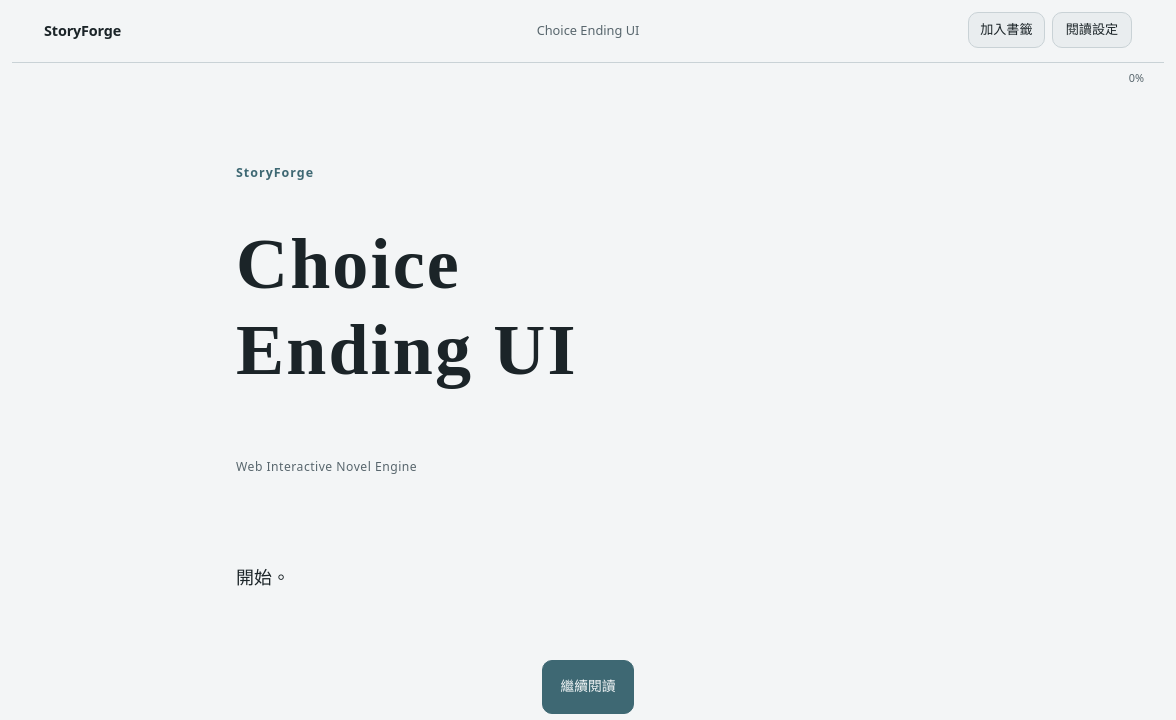
Test: Book reader › shows causal feedback when a Choice commits directly to Ending
The width and height of the screenshot is (1176, 720).
Click the button "繼續閱讀".
click(588, 686)  # box [542, 660, 634, 714]
(page scrolled)
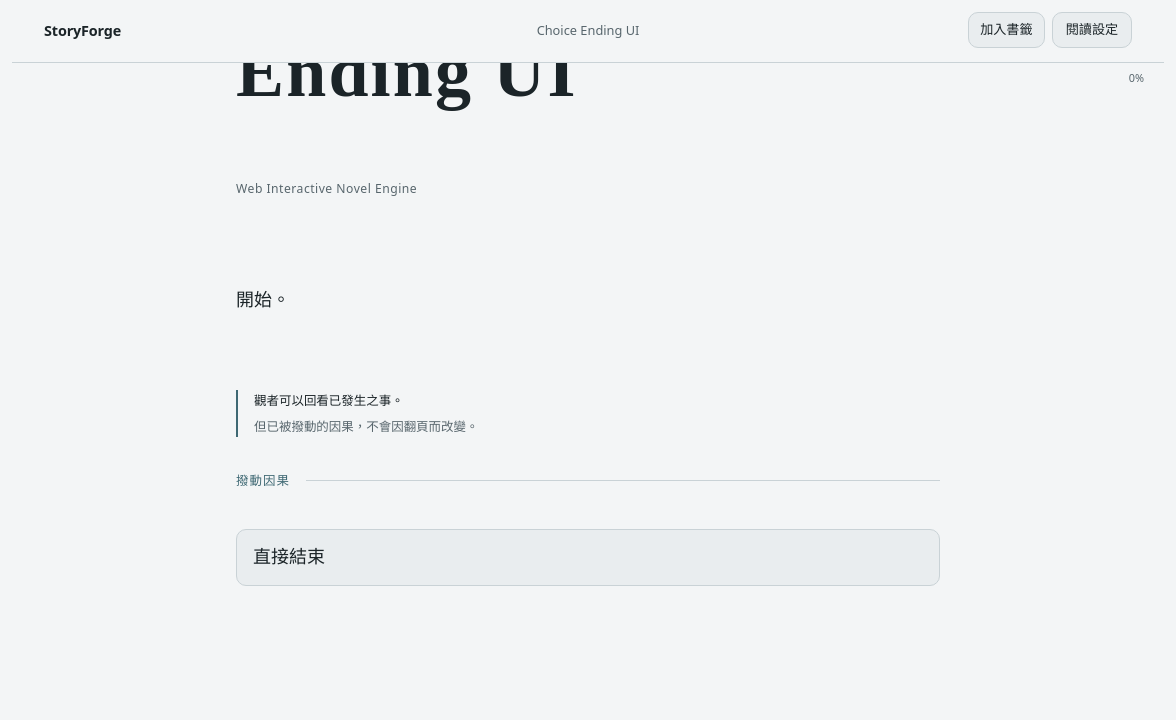
Click the button "直接結束".
click(289, 556)  # box [236, 529, 940, 586]
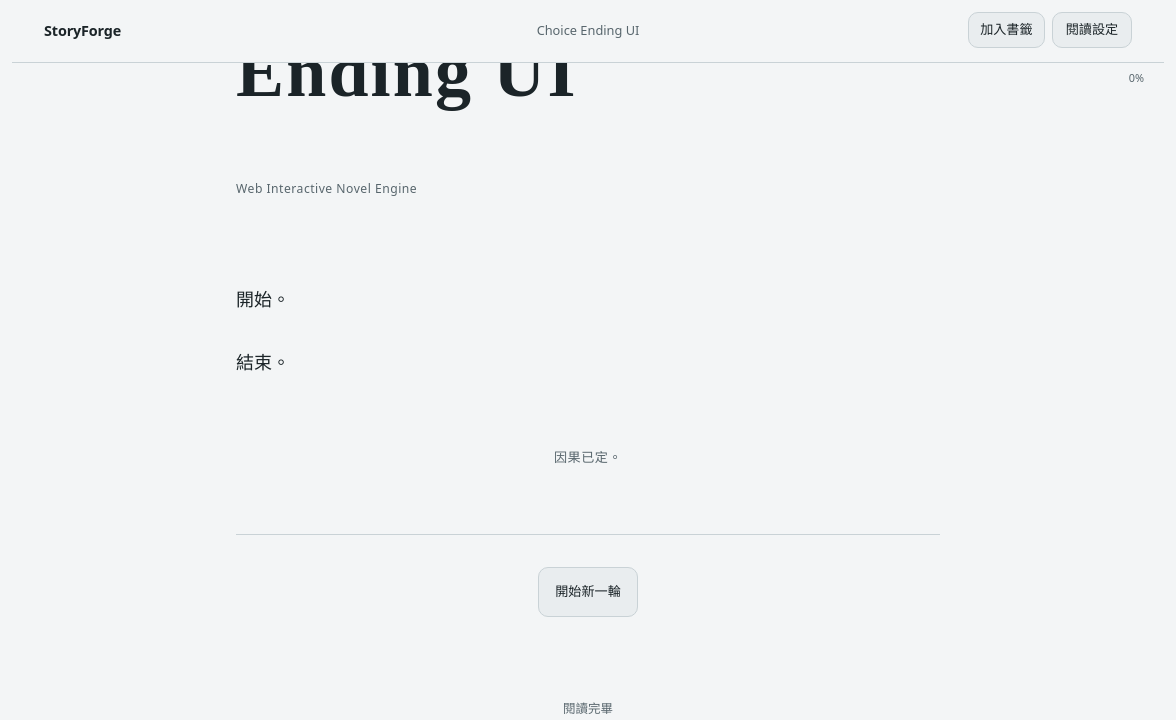
Now the text "因果已定。" is shown, box [554, 448, 622, 466]
Now the text "閱讀完畢" is shown, box [563, 700, 613, 717]
